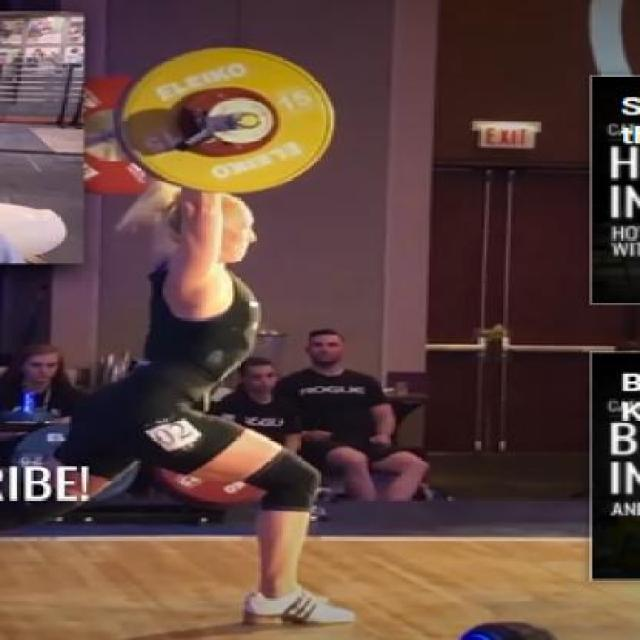barbell: (110, 36, 355, 212)
